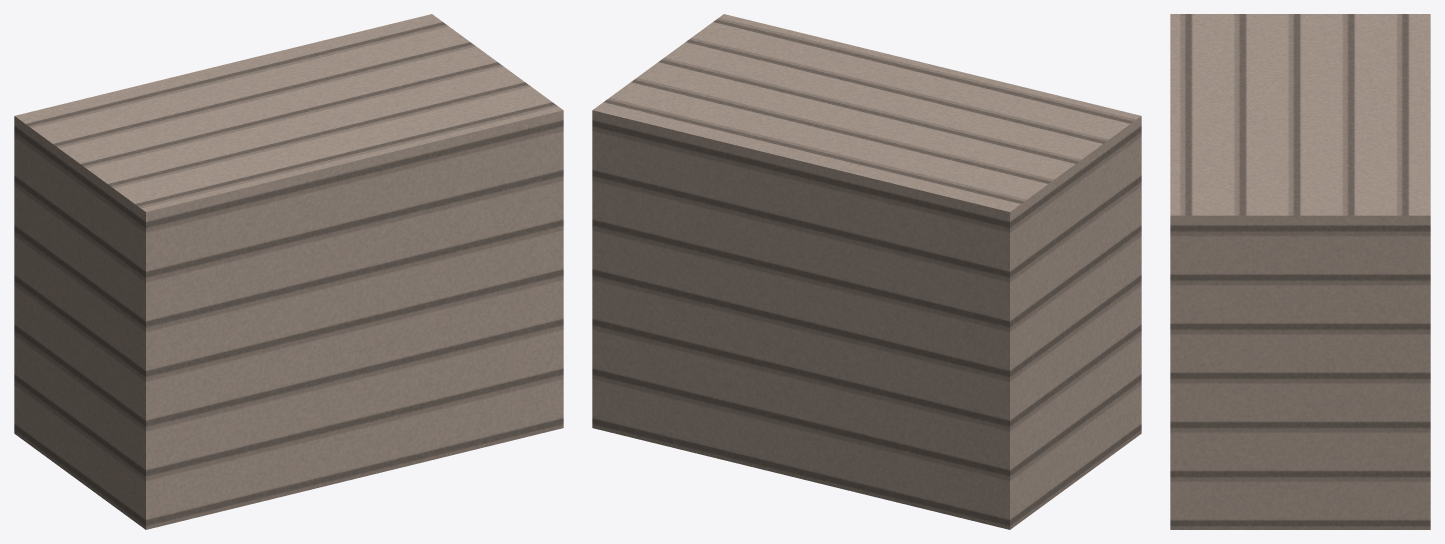
File: bailiffs_desk.glb
3 renders of one model, left to right at view 1: azimuth 30°, elevation 25°; view 2: azimuth 150°, elevation 25°; view 3: azimuth 270°, elevation 25°, orthographic.
Parts seen in each view (by area): view 1: bailiffs_desk-col; view 2: bailiffs_desk-col; view 3: bailiffs_desk-col.
Part boxes in pixels (x1,y1,x2,y2): bailiffs_desk-col: (14, 14, 563, 529); bailiffs_desk-col: (592, 14, 1141, 529); bailiffs_desk-col: (1170, 14, 1430, 529).
Size of the model in its own units: 1.1 by 0.8 by 0.6.
Materials: 1 (1 with a texture image).
